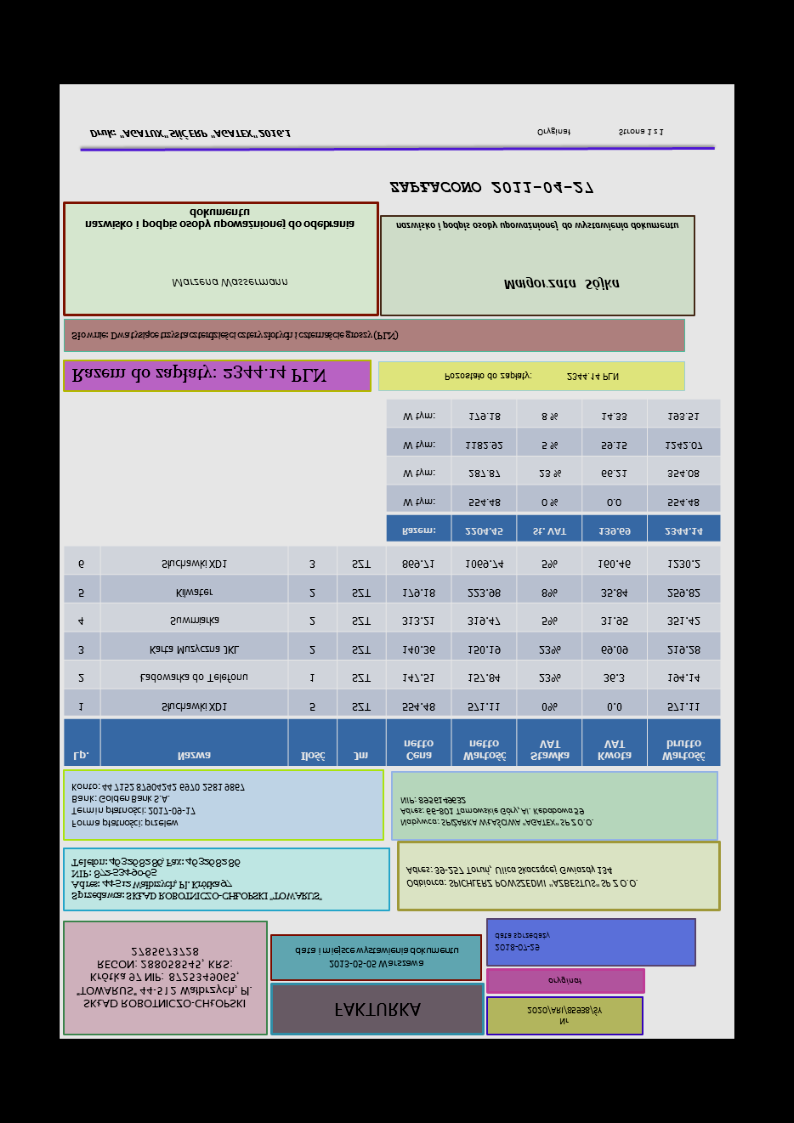Table: (62, 543, 723, 768), (385, 398, 722, 543)
TextBox: (69, 854, 324, 904), (75, 944, 254, 1011), (69, 781, 246, 831), (397, 793, 596, 831), (403, 861, 640, 892), (82, 207, 358, 233), (70, 363, 328, 390), (70, 326, 400, 344), (394, 219, 681, 234), (293, 945, 460, 970), (388, 178, 594, 196), (441, 369, 621, 386), (88, 128, 292, 142), (534, 124, 667, 141), (502, 276, 621, 294), (168, 275, 291, 292), (525, 1003, 604, 1029), (332, 1000, 424, 1020), (493, 929, 551, 955), (546, 974, 583, 989)
